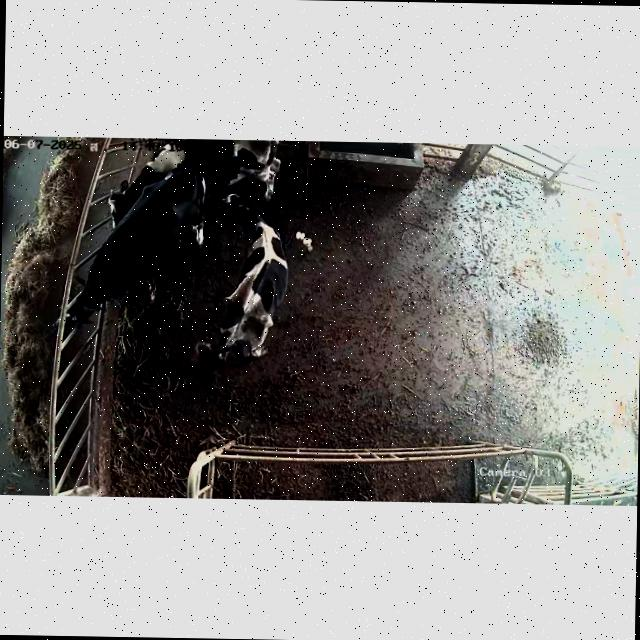stand: (192, 192, 288, 359)
